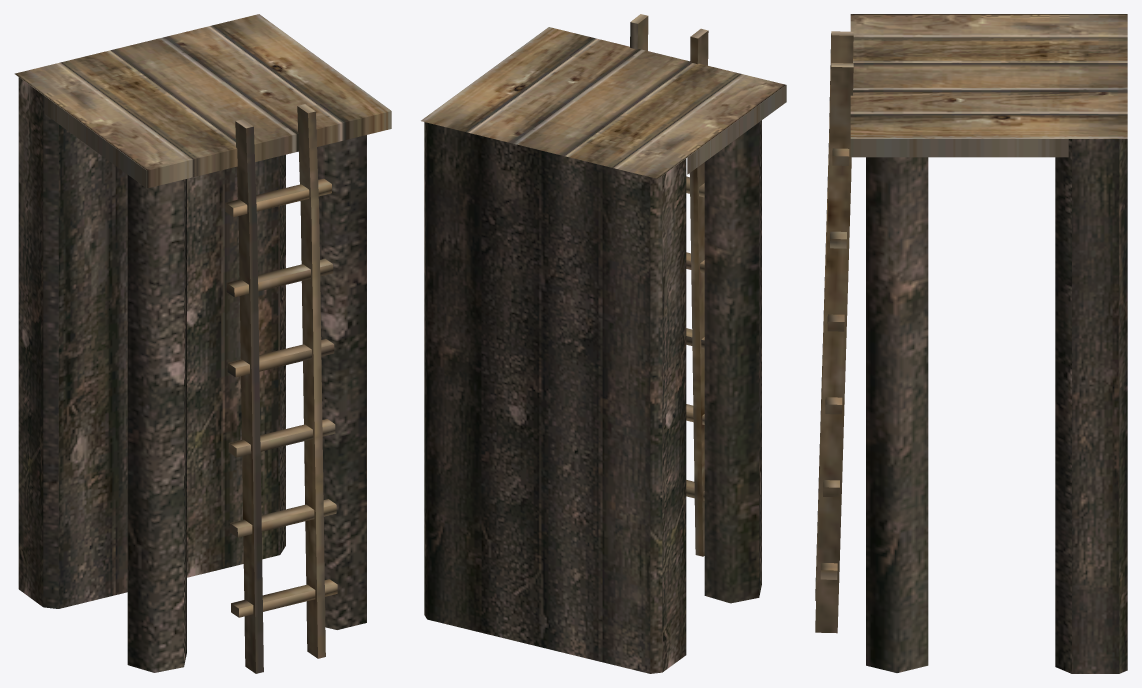
Rendered from building_tower_wooden.glb.
3 renders of one model, left to right at view 1: azimuth 30°, elevation 25°; view 2: azimuth 150°, elevation 25°; view 3: azimuth 270°, elevation 25°, orthographic. The views are drawn at different scales.
Parts seen in each view (by area): view 1: building_tower_wooden; view 2: building_tower_wooden; view 3: building_tower_wooden.
Boxes of the visible parts, x1=… form: building_tower_wooden: x1=14, y1=14, x2=391, y2=673; building_tower_wooden: x1=421, y1=14, x2=786, y2=673; building_tower_wooden: x1=815, y1=14, x2=1127, y2=673.
Size of the model in its own units: 2.05 by 4.33 by 2.17.
Materials: 2 (2 with a texture image).
